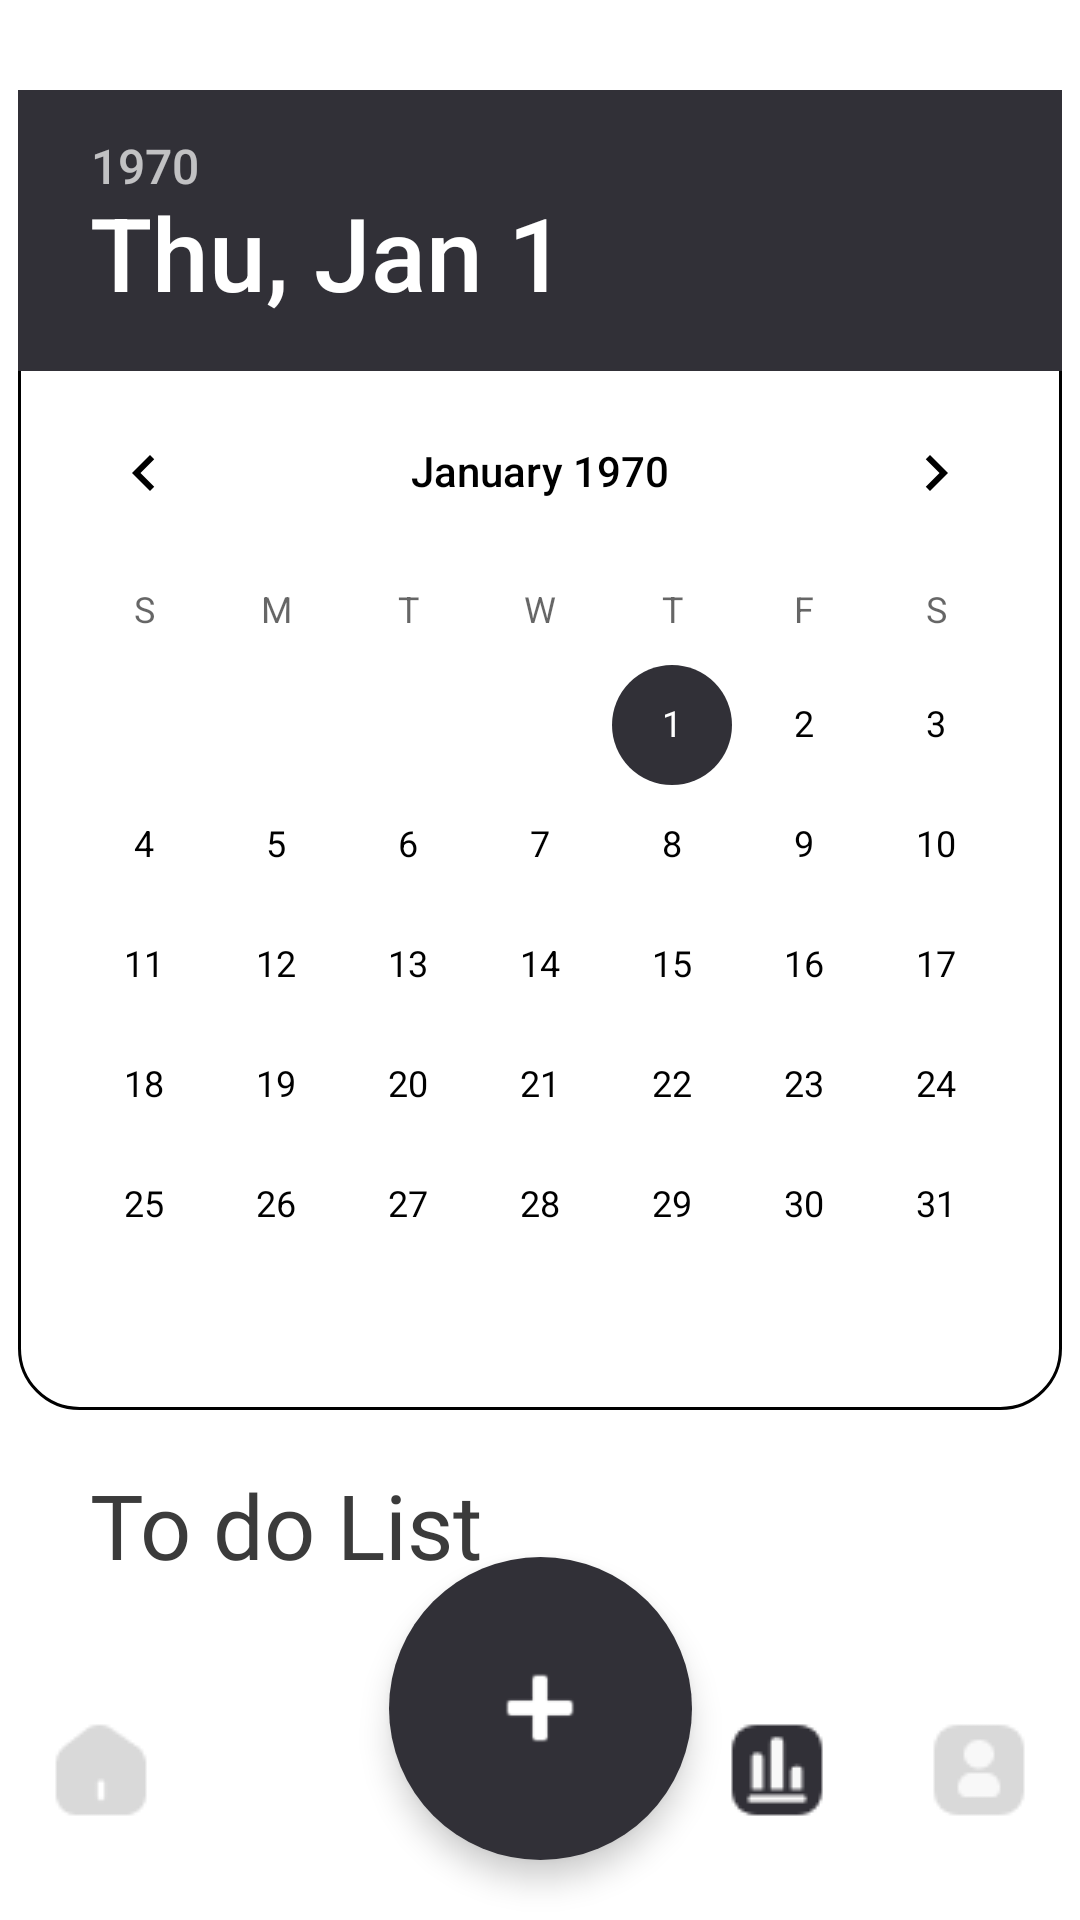

Screen size 1080px×1920px. Icon name, then its center in pixels as point (x, y):
Analytics: point (777, 1770)
Home: point (101, 1770)
Profile: point (979, 1770)
